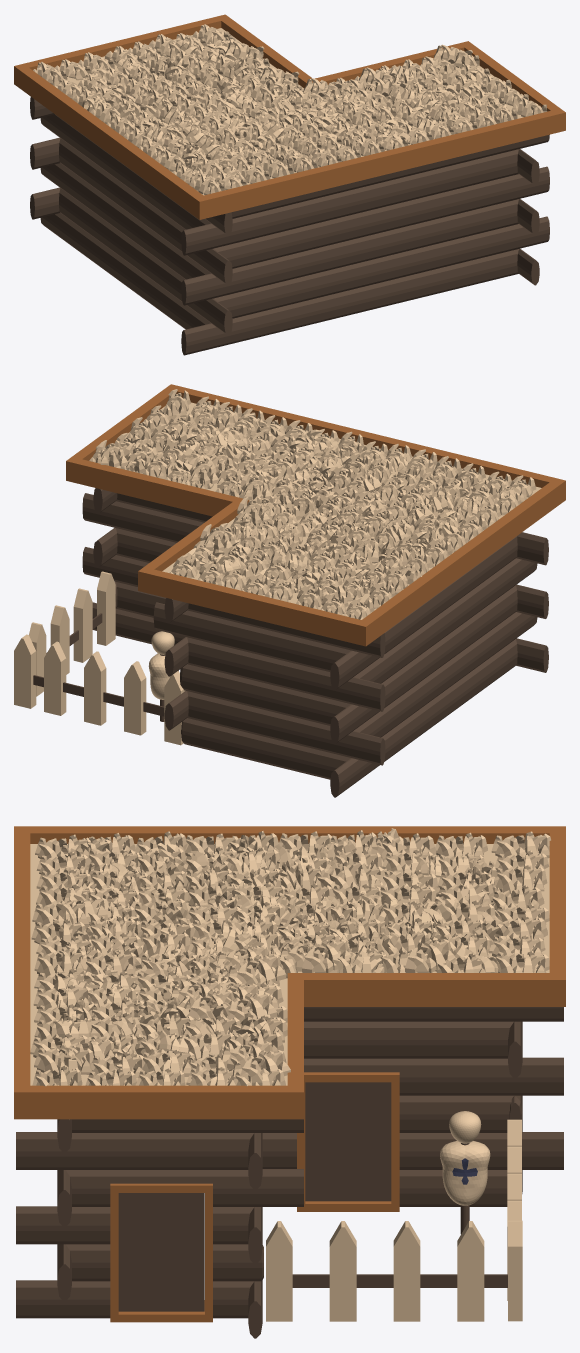
File: trainingHouse.fbx
The picture shows the model from 3 angles, top to bottom: view 1: azimuth 30°, elevation 25°; view 2: azimuth 150°, elevation 25°; view 3: azimuth 270°, elevation 25°; orthographic projection. The views are drawn at different scales.
Visible parts, largest first — view 1: TrainingHouse; view 2: TrainingHouse; view 3: TrainingHouse.
Part boxes in pixels (bbox=[...]): TrainingHouse: bbox=[14, 14, 565, 355]; TrainingHouse: bbox=[14, 384, 565, 797]; TrainingHouse: bbox=[14, 826, 565, 1338].
Size of the model in its own units: 1532 by 710 by 1344.
